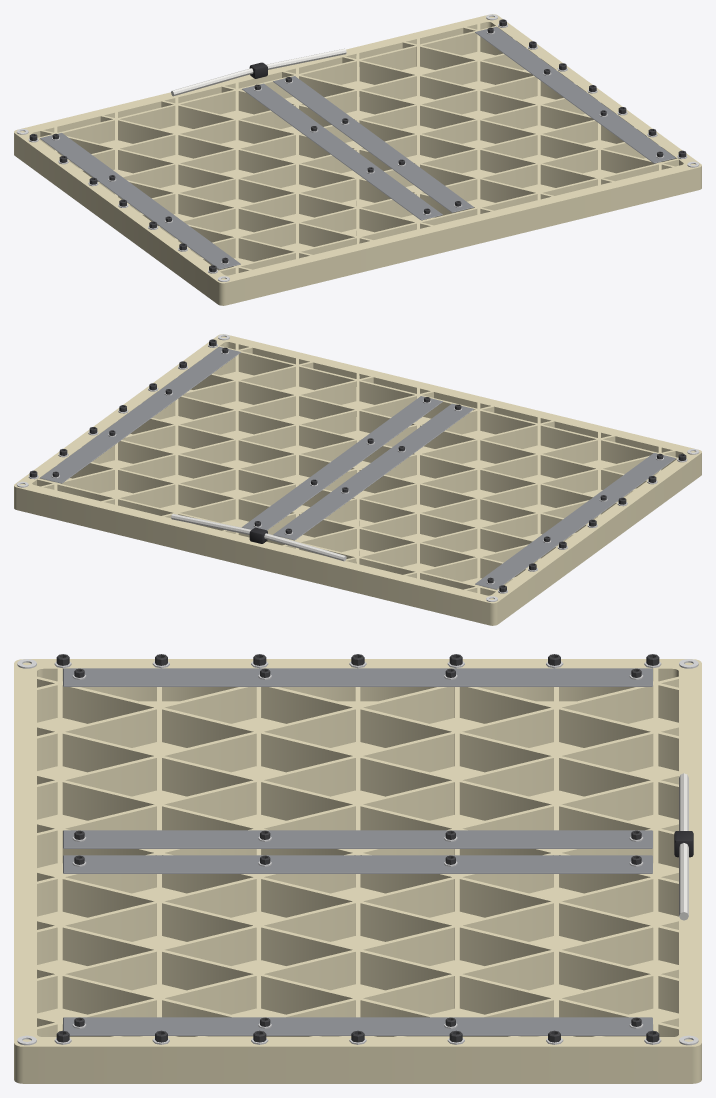
The model's file is payload_adapter_plate.glb.
The picture shows the model from 3 angles, top to bottom: view 1: azimuth 30°, elevation 25°; view 2: azimuth 150°, elevation 25°; view 3: azimuth 270°, elevation 25°; orthographic projection. The views are drawn at different scales.
Visible parts, largest first — view 1: payload_adapter_plate; view 2: payload_adapter_plate; view 3: payload_adapter_plate.
Part boxes in pixels (x1,y1,x2,y2): payload_adapter_plate: [14, 14, 701, 305]; payload_adapter_plate: [14, 334, 701, 625]; payload_adapter_plate: [14, 654, 701, 1083].
Bounding box in the file's own units: 0.56 × 0.037 × 0.42.
